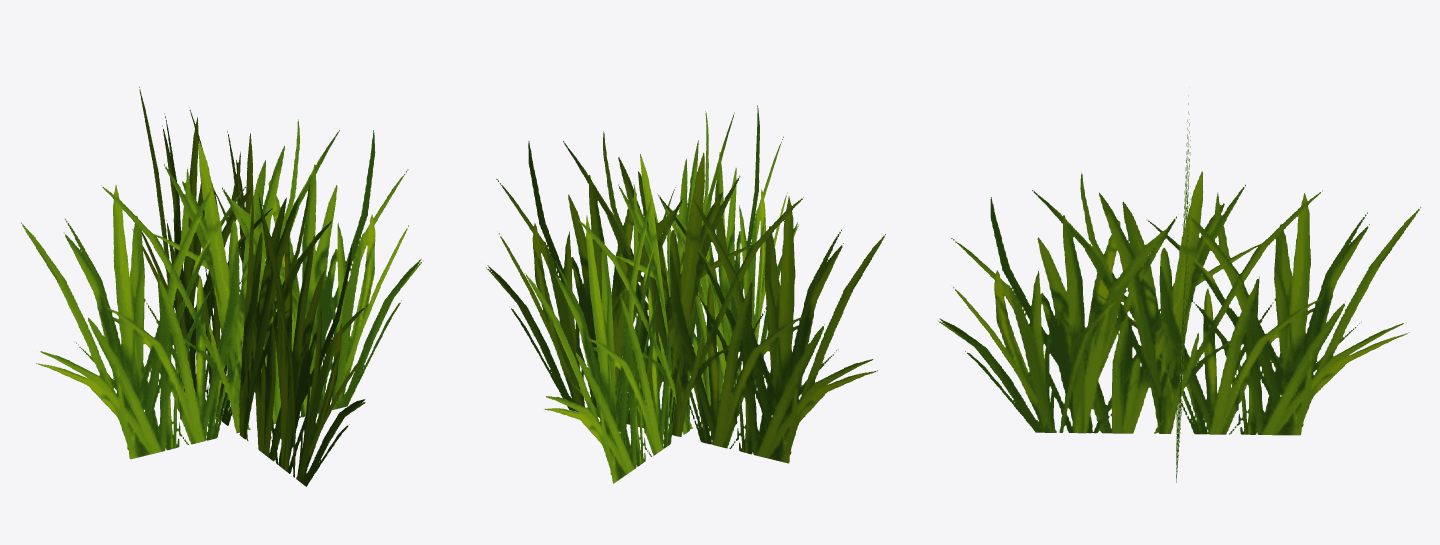
File: grass.fbx
3 renders of one model, left to right at view 1: azimuth 30°, elevation 25°; view 2: azimuth 150°, elevation 25°; view 3: azimuth 270°, elevation 25°, orthographic. The views are drawn at different scales.
Parts seen in each view (by area): view 1: Plane, Plane.001; view 2: Plane, Plane.001; view 3: Plane.001, Plane.
Part boxes in pixels (left/top/right/bottom): Plane: left=21, top=119, right=422, bottom=459; Plane.001: left=132, top=86, right=367, bottom=486; Plane: left=486, top=131, right=885, bottom=463; Plane.001: left=524, top=105, right=798, bottom=483; Plane.001: left=938, top=171, right=1421, bottom=435; Plane: left=1176, top=95, right=1190, bottom=482.
Size of the model in its own units: 269 by 201 by 289.
1 material, 1 textured.
